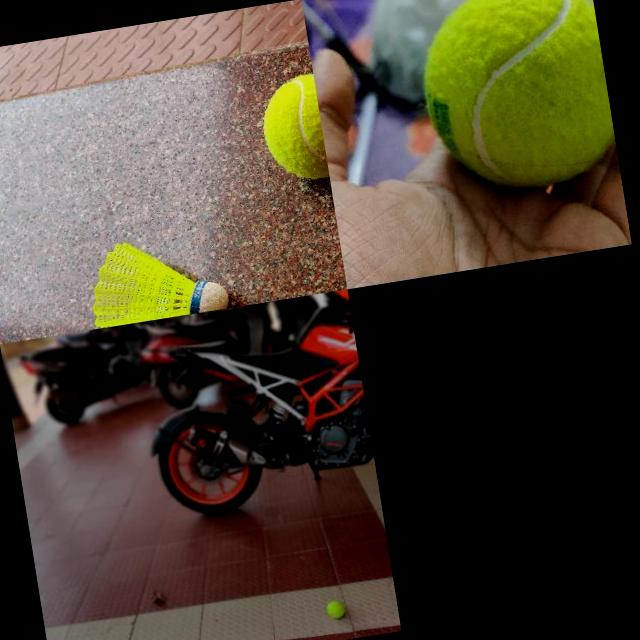Tennis Ball: (408, 0, 620, 203), (254, 72, 328, 185), (326, 599, 346, 619)
